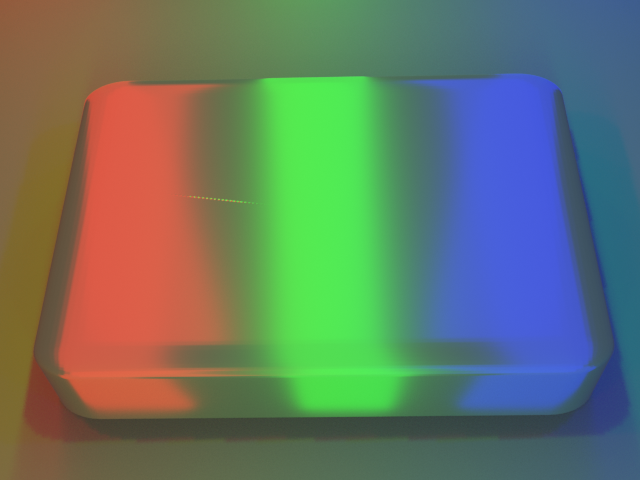scratch: (64, 121, 336, 276)
